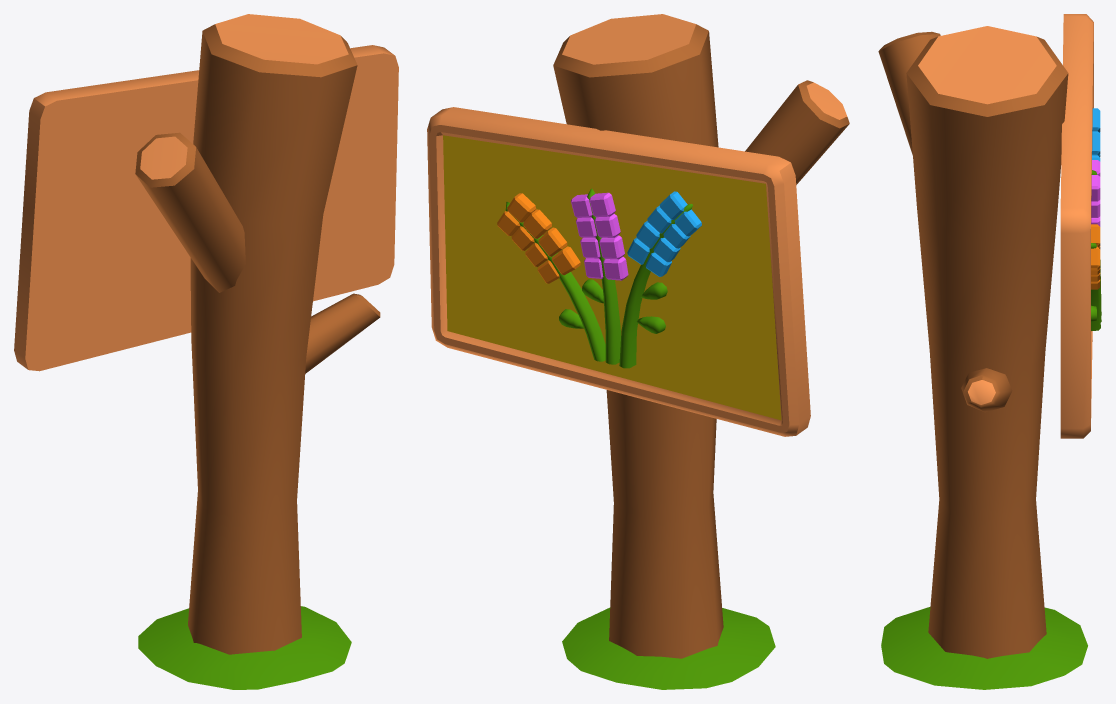
The model's file is SignCropp.fbx.
The picture shows the model from 3 angles, left to right: view 1: azimuth 30°, elevation 25°; view 2: azimuth 150°, elevation 25°; view 3: azimuth 270°, elevation 25°; orthographic projection.
Parts seen in each view (by area): view 1: SignCropp_LOD0; view 2: SignCropp_LOD0; view 3: SignCropp_LOD0.
Part boxes in pixels (<box>): SignCropp_LOD0: <box>14,14,398,689</box>; SignCropp_LOD0: <box>427,14,849,689</box>; SignCropp_LOD0: <box>878,14,1101,689</box>.
Size of what is drawn, in the model's own units: 4.78 by 7.42 by 2.47.
